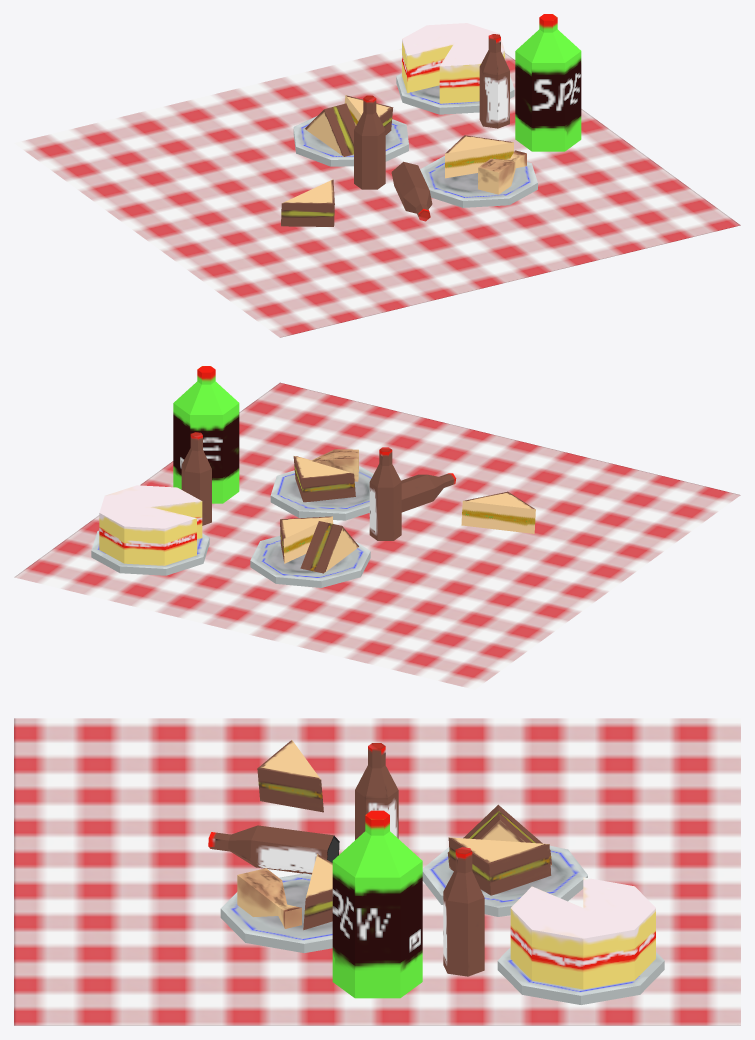
The model's file is picnic.gltf.
3 views of the same model, one above another, from view 1: azimuth 30°, elevation 25°; view 2: azimuth 150°, elevation 25°; view 3: azimuth 270°, elevation 25° (orthographic). The views are drawn at different scales.
Parts seen in each view (by area): view 1: blanket, pop, cake, plate.001, beer.001, beer, plate.002, sammich.003, sammich, sammich.002, beer.002, plate (+2 smaller); view 2: blanket, cake, pop, plate.002, plate.001, beer.001, sammich.003, sammich, sammich.002, beer, plate, sammich.001 (+2 smaller); view 3: blanket, pop, cake, beer, beer.002, sammich.001, plate.001, plate.002, sammich.003, plate, beer.001, chicken (+2 smaller).
Part boxes in pixels (x1,y1,x2,y2): blanket: [14, 48, 740, 337]; pop: [515, 14, 581, 151]; cake: [402, 23, 504, 103]; plate.001: [420, 155, 537, 207]; beer.001: [354, 95, 385, 189]; beer: [479, 34, 509, 128]; plate.002: [293, 116, 408, 166]; sammich.003: [281, 179, 334, 226]; sammich: [445, 135, 513, 178]; sammich.002: [305, 103, 355, 156]; beer.002: [391, 161, 432, 221]; plate: [396, 73, 514, 114]; blanket: [14, 382, 740, 689]; cake: [99, 485, 202, 565]; pop: [173, 366, 239, 503]; plate.002: [250, 535, 370, 587]; plate.001: [270, 466, 373, 520]; beer.001: [369, 447, 401, 540]; sammich.003: [461, 491, 535, 533]; sammich: [293, 456, 355, 502]; sammich.002: [300, 521, 359, 573]; beer: [181, 432, 211, 525]; plate: [91, 530, 209, 575]; sammich.001: [280, 516, 333, 563]; blanket: [14, 718, 740, 1025]; pop: [332, 810, 422, 998]; cake: [510, 877, 655, 989]; beer: [443, 847, 484, 976]; beer.002: [208, 825, 339, 874]; sammich.001: [448, 837, 551, 895]; plate.001: [220, 873, 332, 953]; plate.002: [422, 845, 587, 916]; sammich.003: [257, 740, 323, 812]; plate: [497, 947, 664, 1004]; beer.001: [355, 743, 398, 839]; chicken: [237, 868, 301, 928].
Bounding box in the file's own units: 2 × 0.5186 × 2.
1 material, 1 textured.
